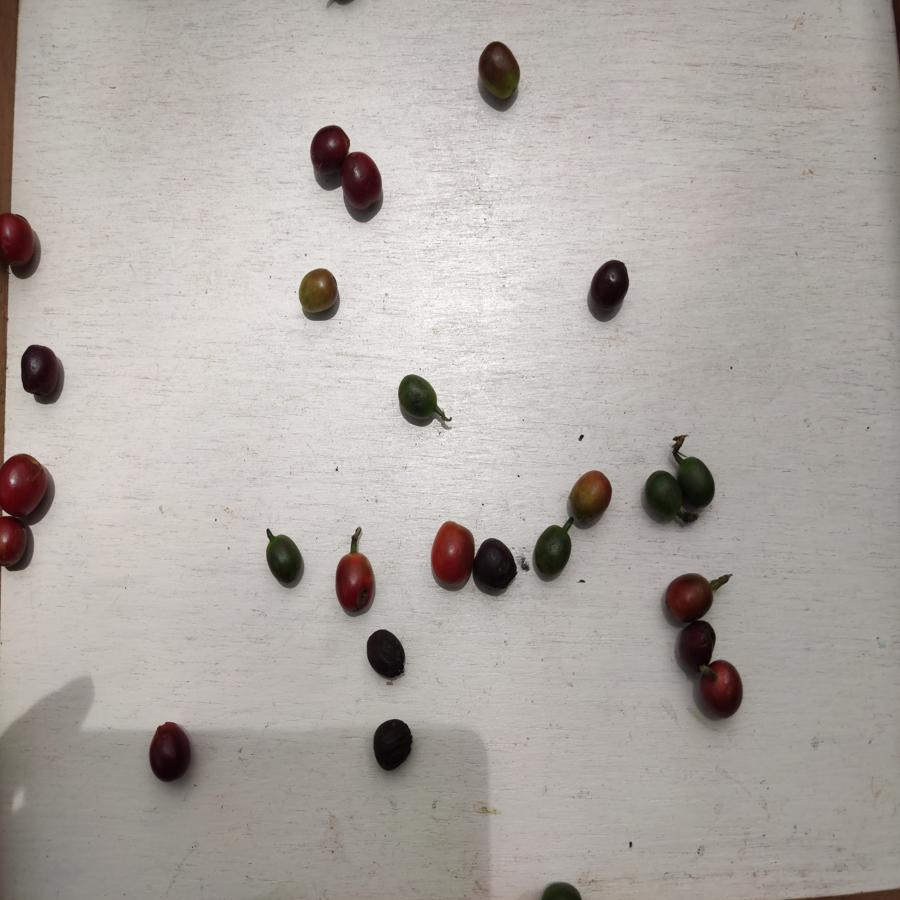Inmaduro: (264, 531, 306, 590), (675, 455, 720, 506), (396, 373, 438, 424), (534, 524, 573, 573), (643, 469, 681, 519)
Maduro: (1, 450, 48, 522), (429, 517, 474, 590), (331, 547, 377, 613), (1, 211, 35, 274), (1, 517, 36, 573)
Pinton: (565, 469, 615, 532), (479, 39, 523, 103), (297, 266, 340, 320)
Sobremaduro: (698, 659, 747, 719), (146, 724, 195, 783), (344, 151, 389, 214), (474, 538, 521, 593), (364, 628, 411, 682), (368, 718, 415, 771), (18, 346, 61, 400), (667, 574, 716, 620), (590, 259, 632, 311), (673, 619, 717, 667), (310, 122, 347, 176)
